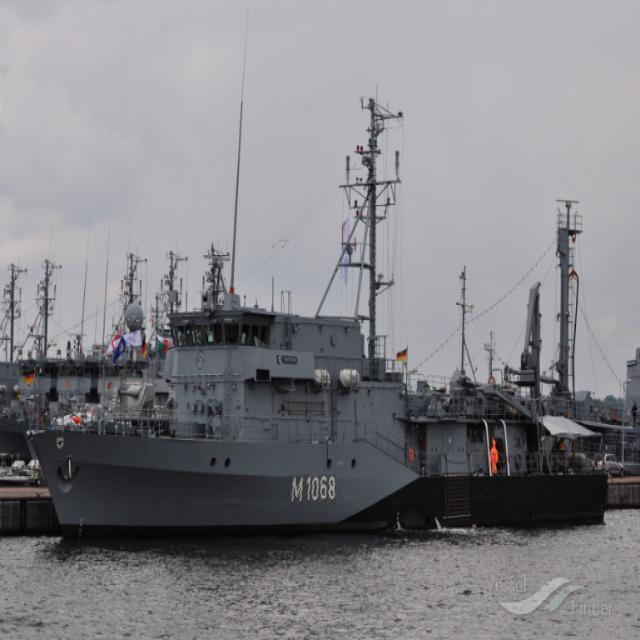OCR: (280, 472, 336, 510)
